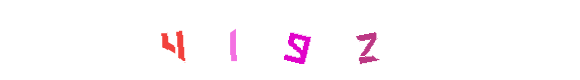4: (221, 0, 301, 80)
9: (250, 0, 330, 80)
I: (228, 0, 308, 80)
Z: (258, 0, 338, 80)
